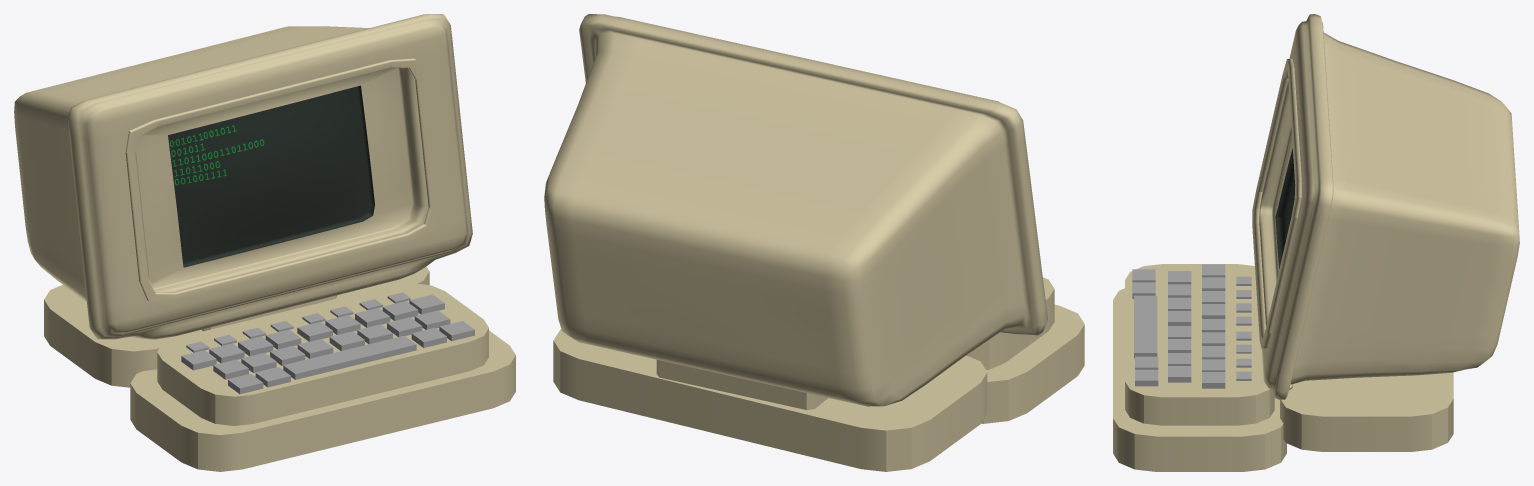
The model's file is computer2.fbx.
3 renders of one model, left to right at view 1: azimuth 30°, elevation 25°; view 2: azimuth 150°, elevation 25°; view 3: azimuth 270°, elevation 25°, orthographic. The views are drawn at different scales.
Visible parts, largest first — view 1: pCube34; view 2: pCube34; view 3: pCube34.
Boxes of the visible parts, x1,y1,x2,y2 form: pCube34: [14, 14, 515, 471]; pCube34: [544, 14, 1084, 471]; pCube34: [1113, 14, 1519, 471].
Bounding box in the file's own units: 10.1 × 7.61 × 9.54.
